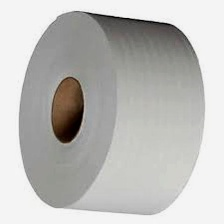tissue: (14, 6, 211, 220)
